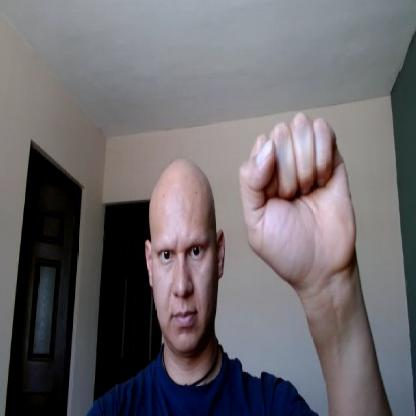S: (240, 109, 358, 274)
